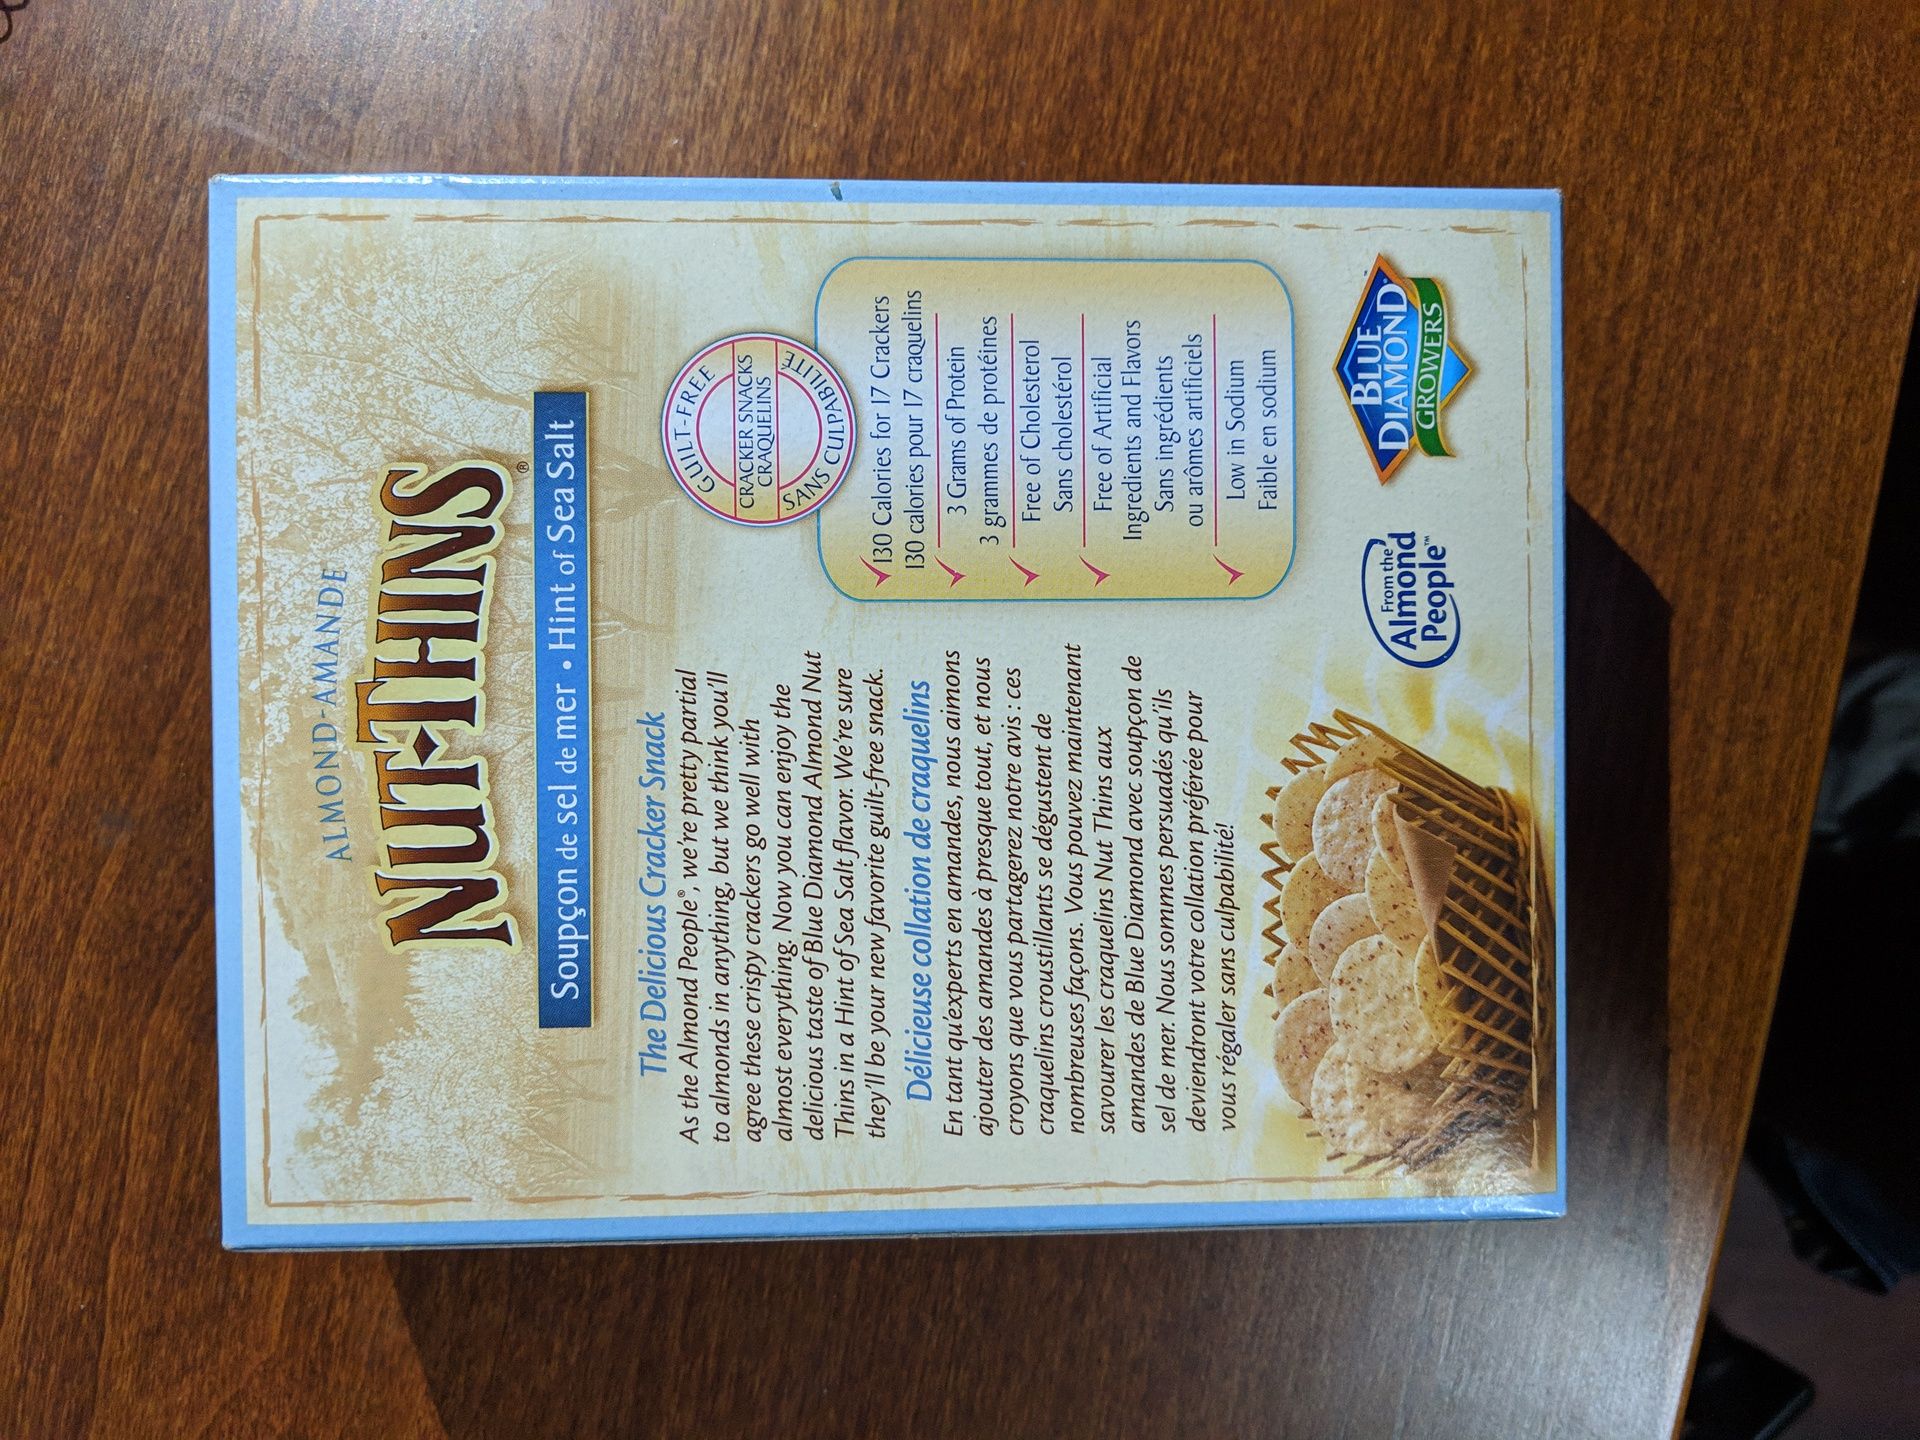blue_diamond_nut_thins_almond_seasalt: (210, 175, 1571, 1221)
